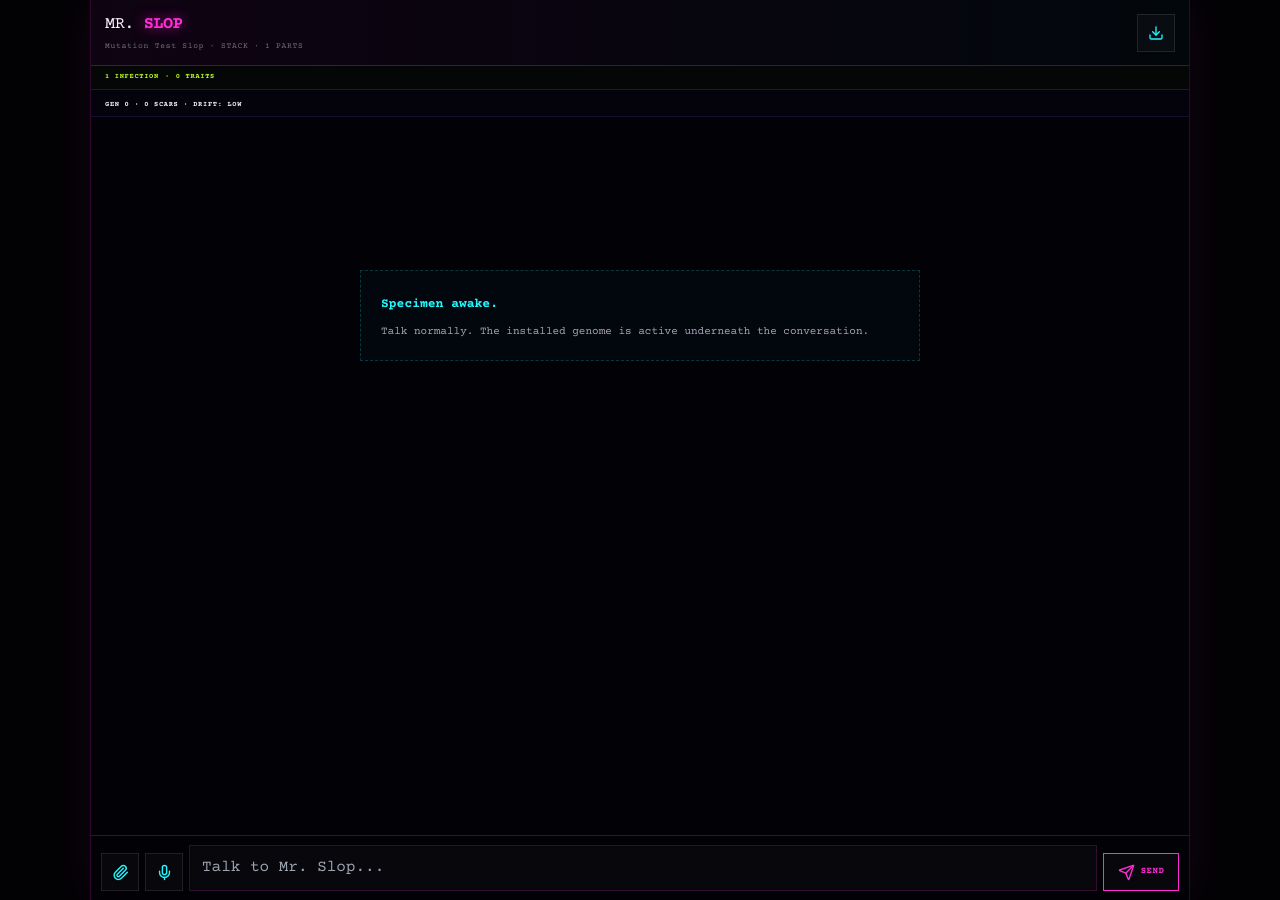
Test: Mr. Slop mutation UI and lifecycle › expires a one-turn infection only after the successful reply is accepted
The width and height of the screenshot is (1280, 900).
Type "use it once" into the text box with placeholder "Talk to Mr. Slop..." at (643, 868), box [189, 845, 1097, 891]
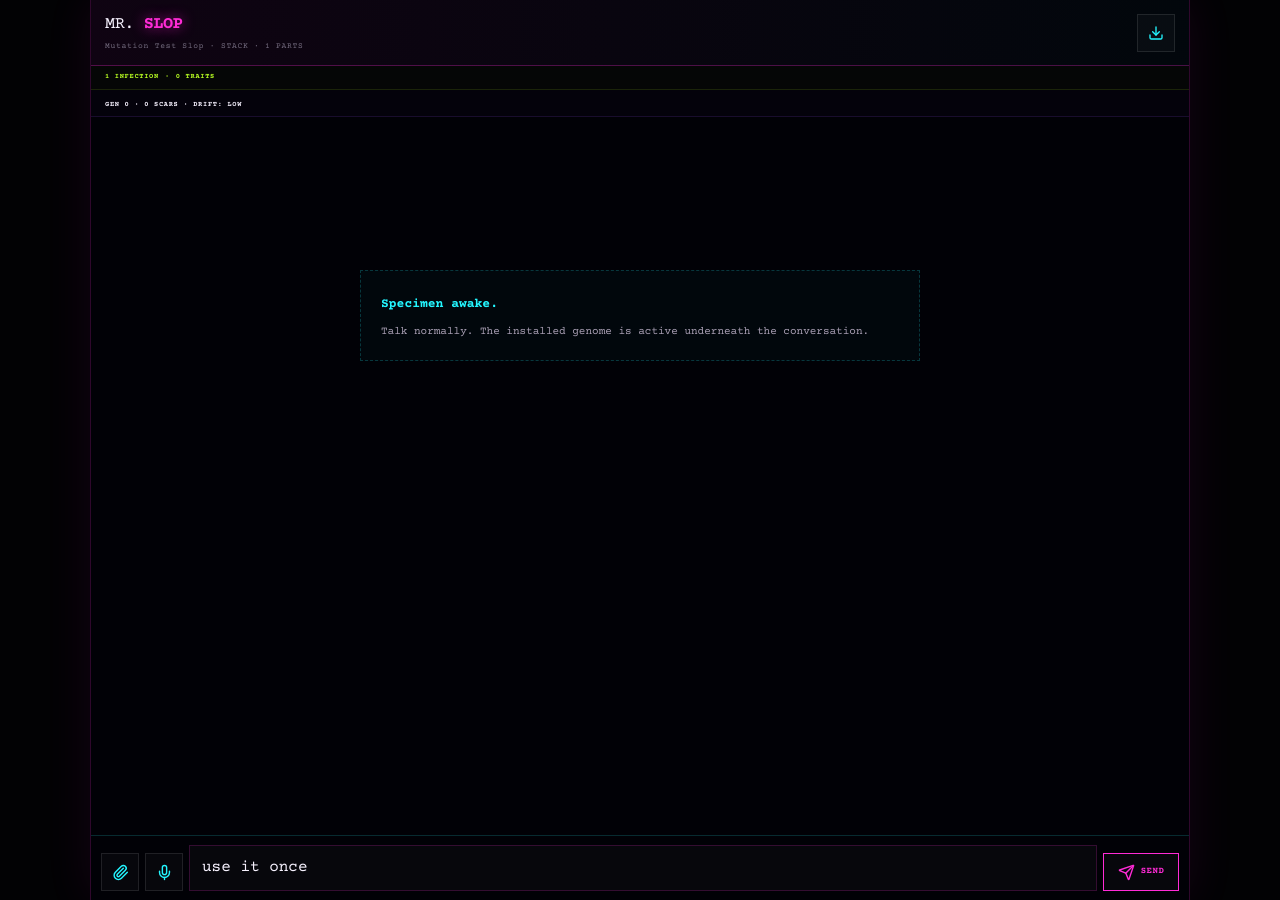
Click the button "SEND" at (1141, 872), box [1103, 853, 1179, 891]
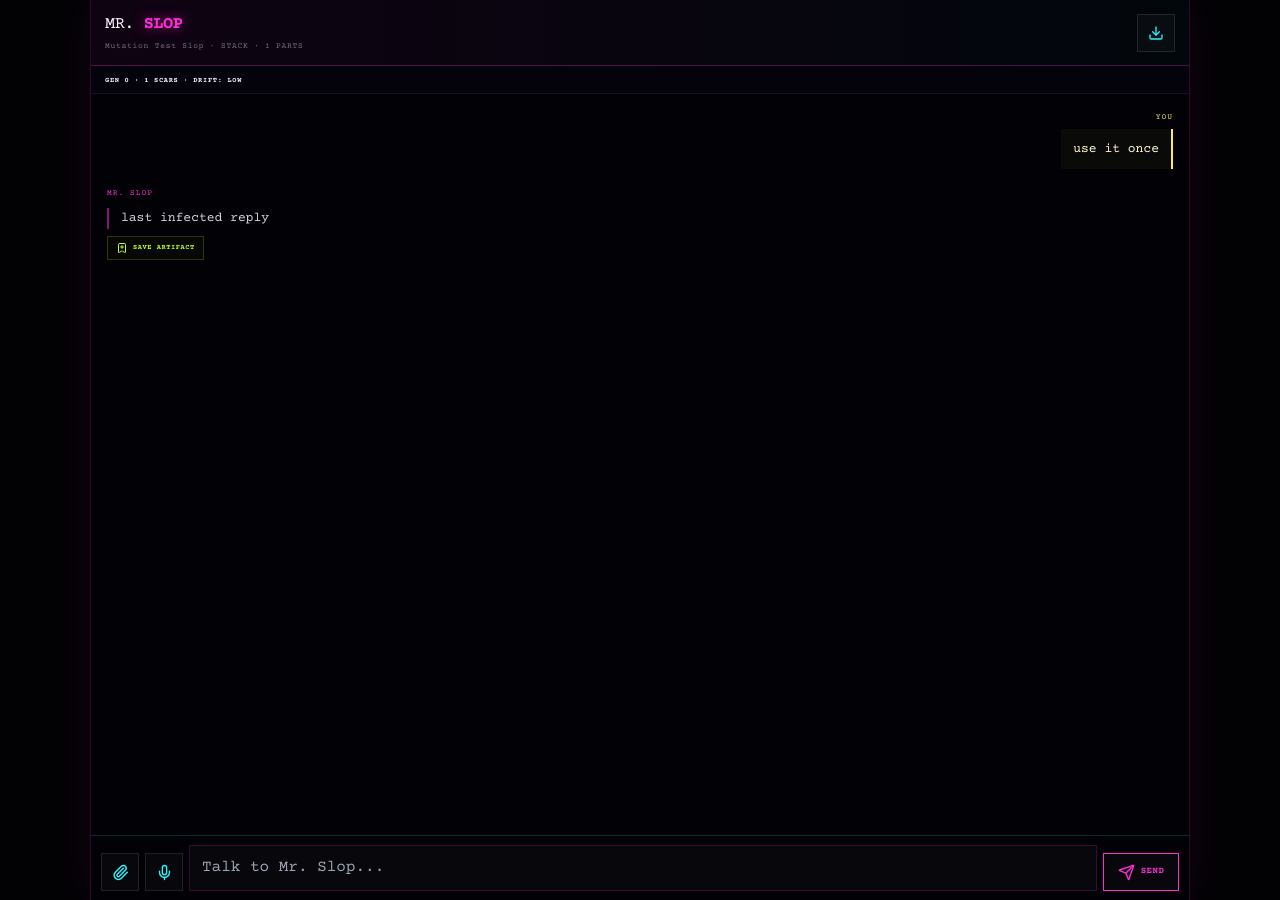
Expected: the text "last infected reply" is shown, [121, 211, 269, 225]
